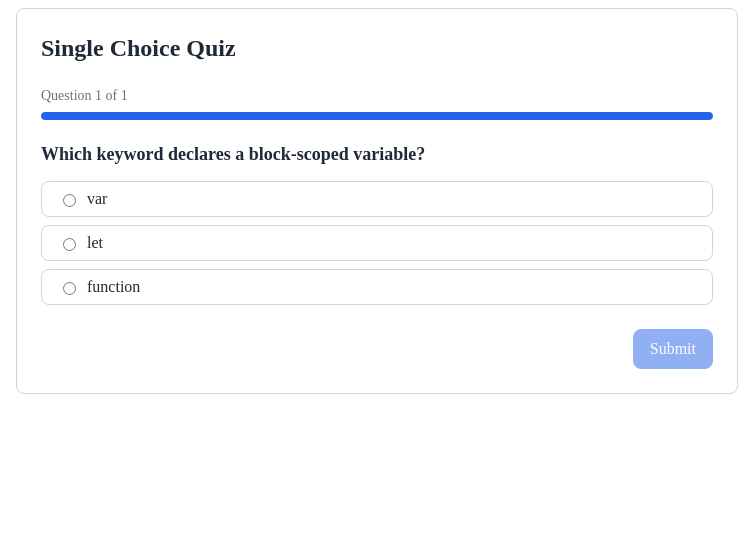
it: Quiz › finishPage showQuestionBreakdown lists questions
Click the radio button labelled "let" at {"x": 70, "y": 245}, box top-left (63, 238), bottom-right (76, 251)
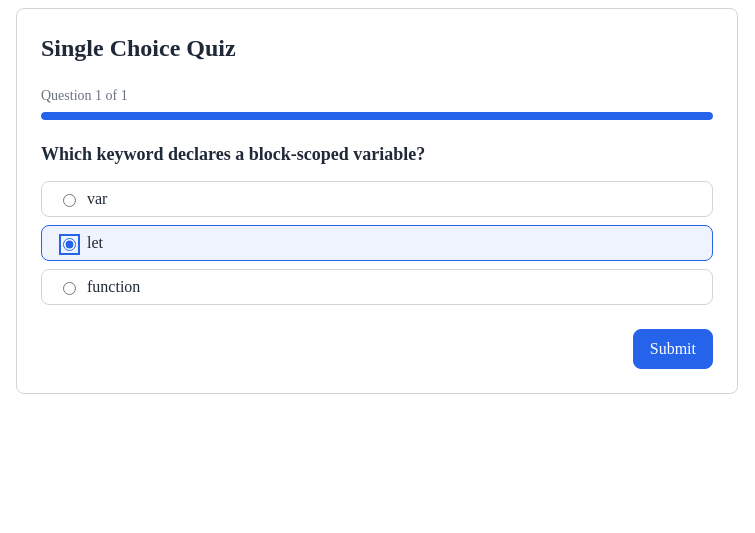
Click the button "Submit" at {"x": 673, "y": 349}, box top-left (633, 329), bottom-right (713, 369)
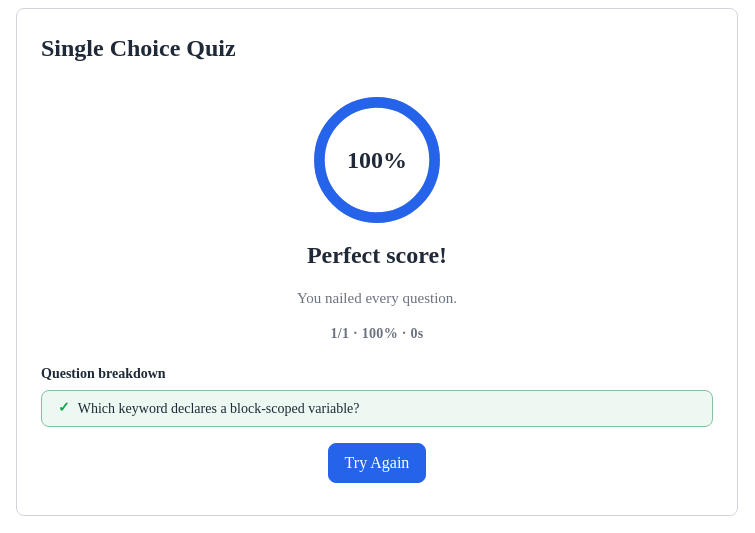
Check: the text "Which keyword declares a block-scoped variable?" is shown, box top-left (78, 399), bottom-right (360, 418)
Check: the heading "Question breakdown" is shown, box top-left (41, 366), bottom-right (166, 381)
